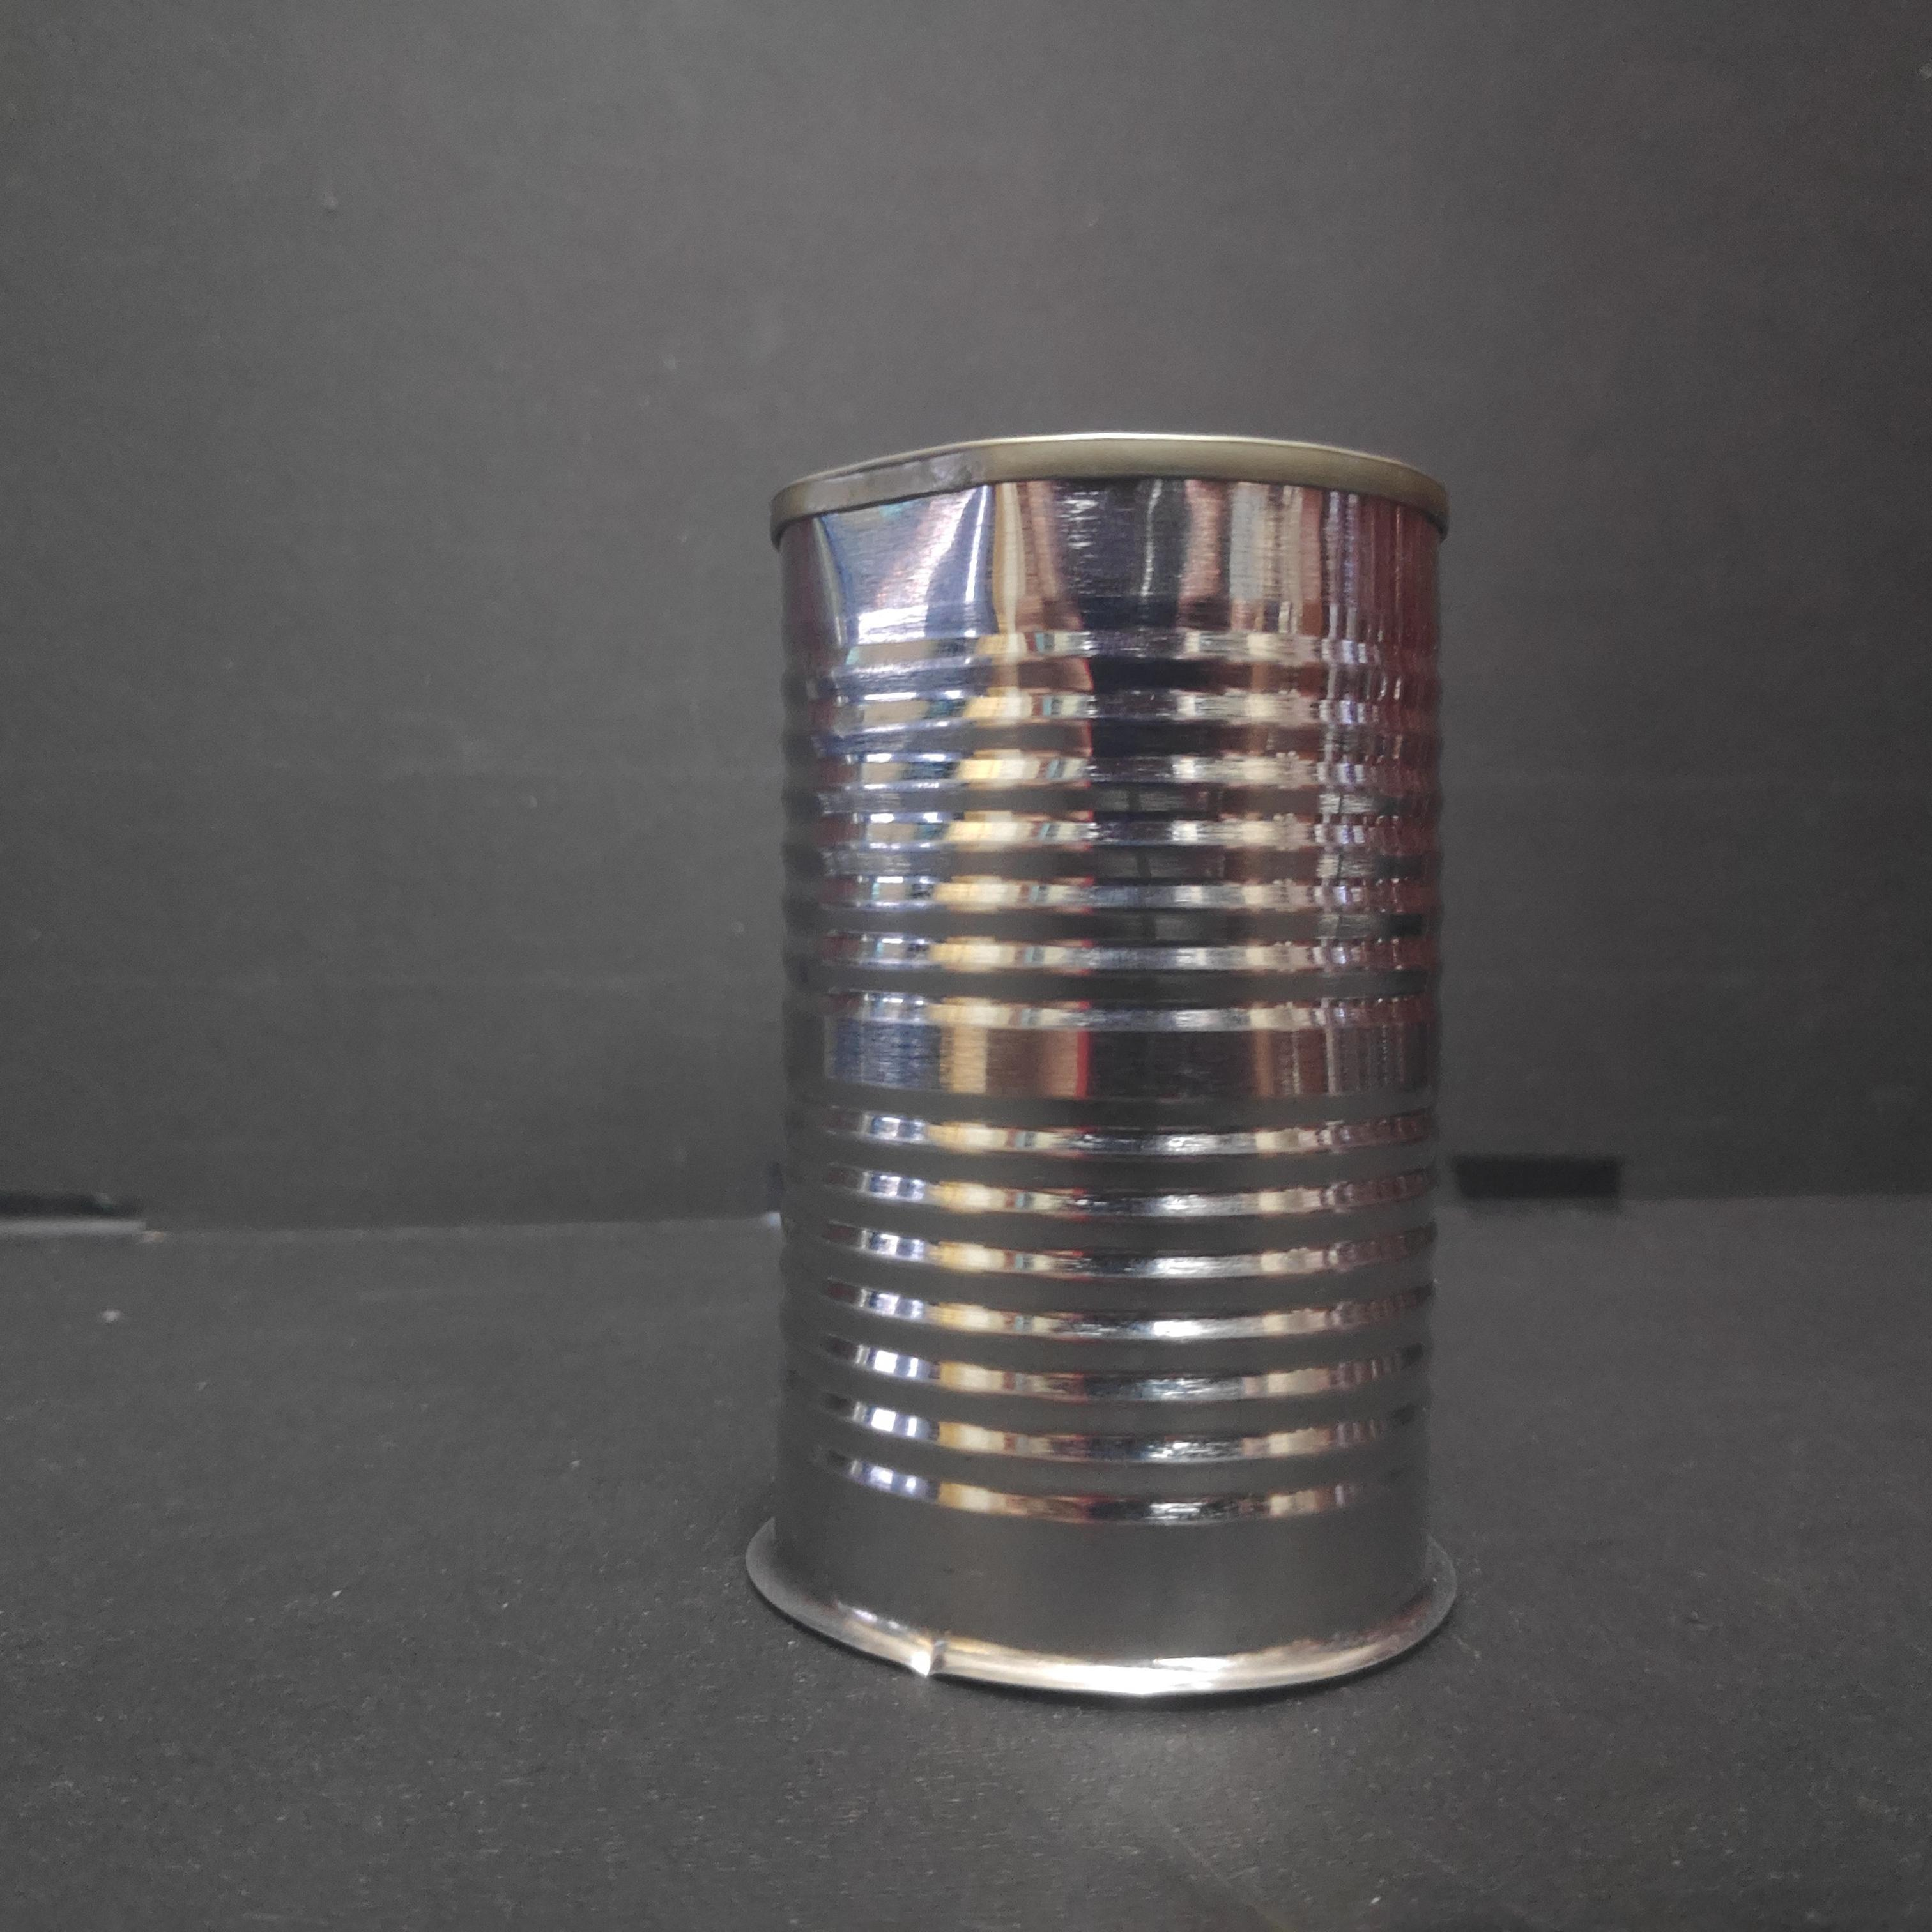Dented: (750, 412, 1470, 1713)
